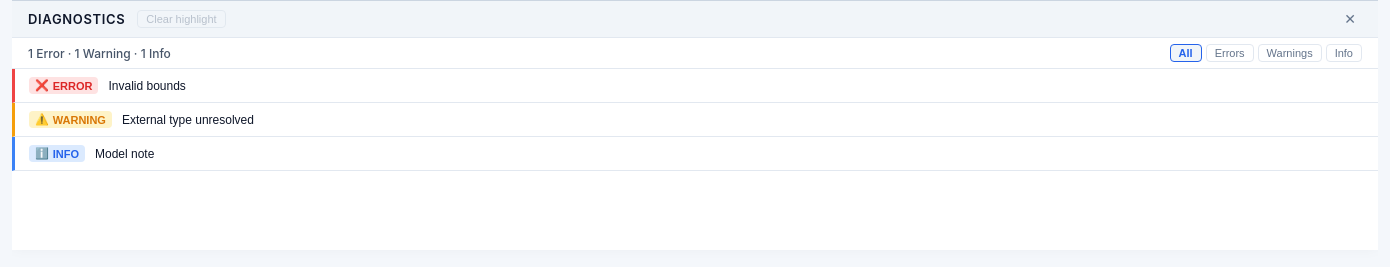
DiagnosticsPanel › orders severity, shows counts and safely renders raw details
Check: the text "x.ecore#//T" is not shown
Click the button "⚠️ warning External type unresolved".
click(70, 120)  # box [15,103,1378,136]
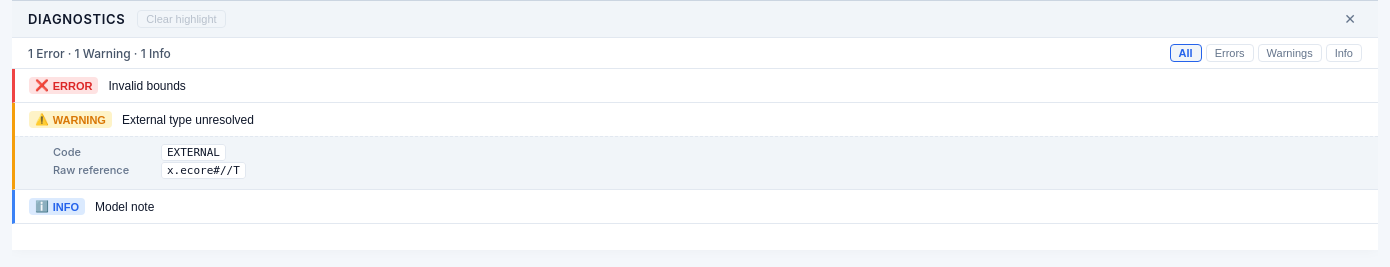
Check: the text "x.ecore#//T" is shown, box [161,162,246,179]
